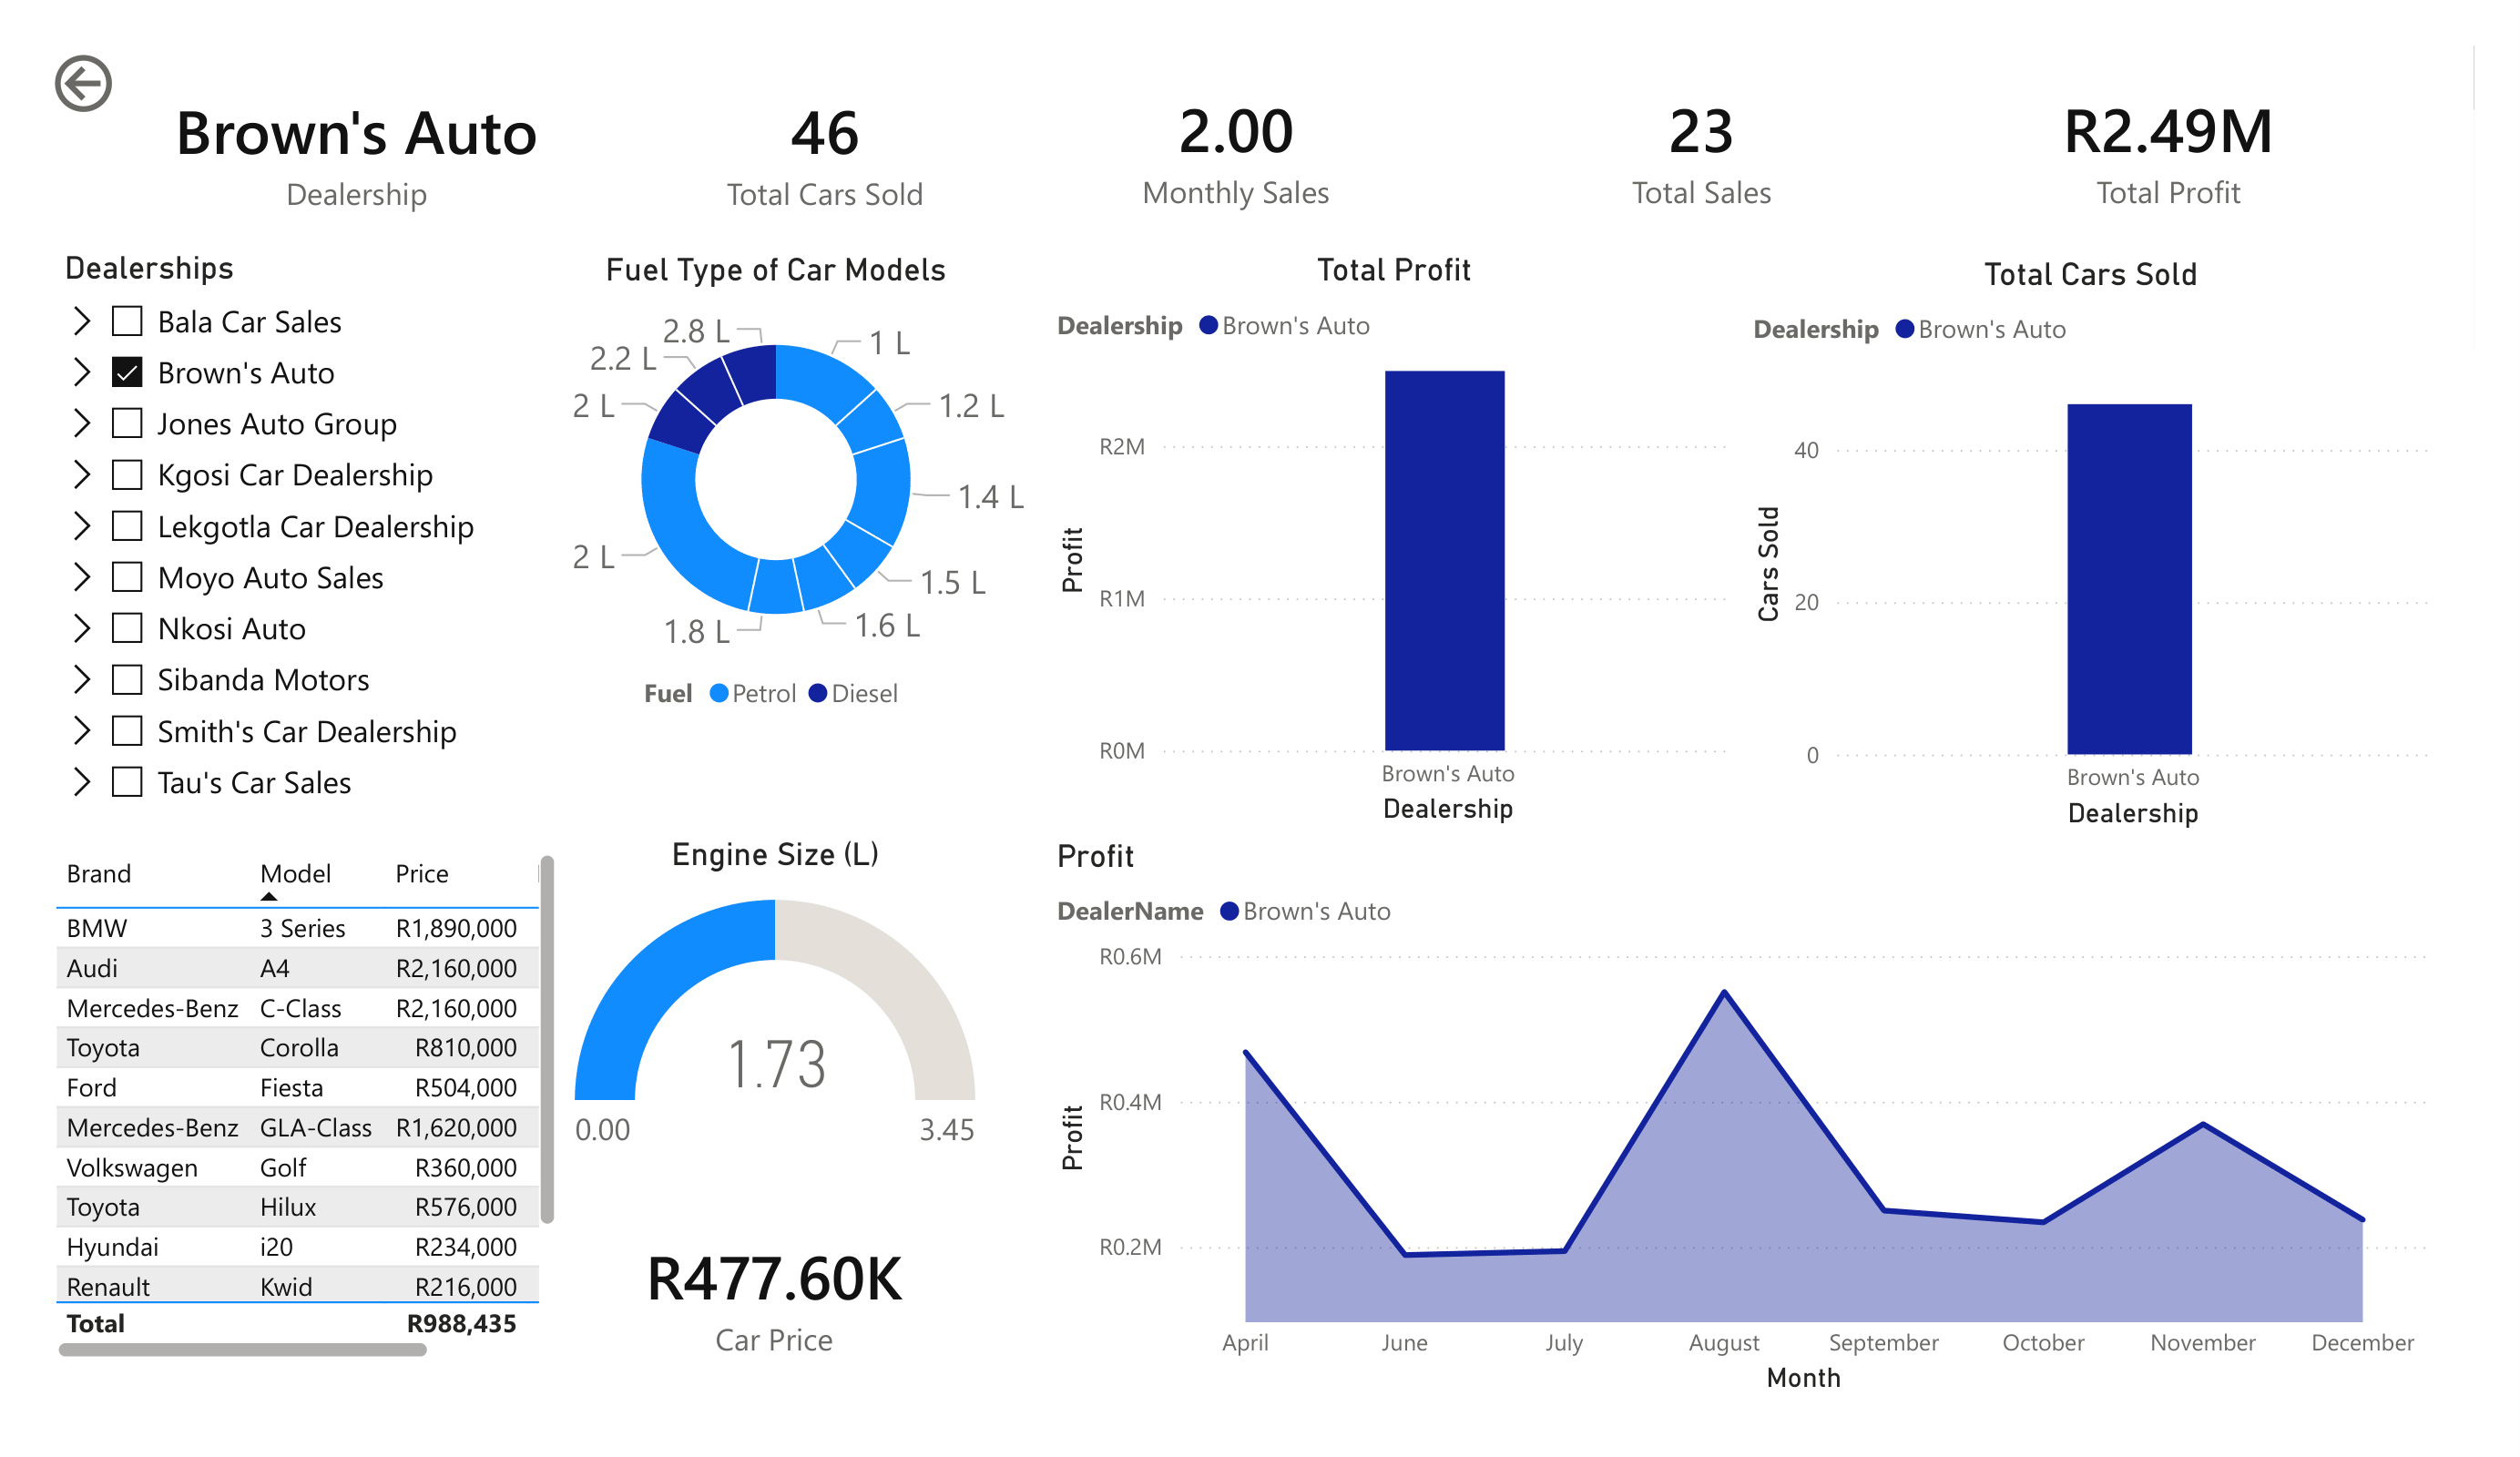

The dashboard page shown, as its layout file describes it:
{"tool":"powerbi","page":{"name":"Page 1","canvas":[1280,720],"ordinal":0},"visuals":[{"type":"cardVisual","fields":{"Data":["CountNonNull(Sales.Quantity)"]},"box":[801.4,0,144.1,109.8],"z":0},{"type":"cardVisual","fields":{"Data":["Sum(Sales.Quantity)"]},"box":[327.7,0,166.3,110.1],"z":1000},{"type":"cardVisual","fields":{"Data":["Sum(Sales.Total Profit (ZAR))"]},"box":[1012.7,0,212.7,109.8],"z":2000},{"type":"tableEx","fields":{"Values":["Models.Brand","Models.Model","Models.Price (ZAR)"]},"box":[9.6,362.3,262.1,355.4],"z":3000},{"type":"cardVisual","fields":{"Data":["Avg(Sales.Quantity)"]},"box":[548.9,0,157.8,109.8],"z":4000},{"type":"cardVisual","fields":{"Data":["Min(Dealers.DealerName)"]},"box":[23.2,0,265.4,110.1],"z":5000},{"type":"donutChart","title":"Fuel Type of Car Models","fields":{"Category":["Models.Fuel"],"Y":["CountNonNull(Models.Fuel)"],"Series":["Models.Engine Sizes (L)"]},"box":[242.1,107.6,286.1,251.9],"z":6000},{"type":"tableEx","fields":{"Values":["Dealers.DealerID","Dealers.DealerName"]},"box":[9.8,99,232.3,249.5],"z":7000},{"type":"gauge","fields":{"Y":["Avg(Models.EngineSize (L))"]},"box":[273.9,414.5,221.3,187.1],"z":8000},{"type":"columnChart","title":"Total Profit","fields":{"Category":["Dealers.DealerName","Sales.Date.Variation.Date Hierarchy.Month","Dealers.City","Models.Brand","Models.Model"],"Y":["Sum(Sales.Total Profit (ZAR))"],"Series":["Dealers.DealerName"]},"box":[528.3,107.6,365.6,306.9],"z":9000},{"type":"columnChart","title":"Total Cars Sold","fields":{"Category":["Dealers.DealerName","Dealers.City","Models.Segment","Models.Model"],"Y":["Sum(Sales.Quantity)"],"Series":["Dealers.DealerName"]},"box":[894.7,109.8,366.4,307.4],"z":10000},{"type":"actionButton","box":[0,0,100,40],"z":11000},{"type":"lineChart","title":"Monthly Profit (ZAR)","fields":{"Category":["Sales.Date.Variation.Date Hierarchy.Month","Dealers.Country","Dealers.City"],"Series":["Dealers.DealerName"],"Y":["Avg(Sales.Total Profit (ZAR))"]},"box":[528.3,417.2,731.4,303.3],"z":12000},{"type":"cardVisual","fields":{"Data":["Avg(Models.Price (ZAR))"]},"box":[271.5,584.5,216.4,135.7],"z":13000}]}

Visuals, with their boxes on the page's 1280x720 design canvas (x1, y1, x2, y2). These are canvas units, not pixel positions in the 2520x1457 screenshot, which may show the page scaled, cropped or inside an application window:
cardVisual - CountNonNull(Sales.Quantity): 801, 0, 946, 110
cardVisual - Sum(Sales.Quantity): 328, 0, 494, 110
cardVisual - Sum(Sales.Total Profit (ZAR)): 1013, 0, 1225, 110
tableEx - Models.Brand x Models.Model: 10, 362, 272, 718
cardVisual - Avg(Sales.Quantity): 549, 0, 707, 110
cardVisual - Min(Dealers.DealerName): 23, 0, 289, 110
"Fuel Type of Car Models" donutChart: 242, 108, 528, 360
tableEx - Dealers.DealerID x Dealers.DealerName: 10, 99, 242, 348
gauge - Avg(Models.EngineSize (L)): 274, 414, 495, 602
"Total Profit" columnChart: 528, 108, 894, 414
"Total Cars Sold" columnChart: 895, 110, 1261, 417
actionButton: 0, 0, 100, 40
"Monthly Profit (ZAR)" lineChart: 528, 417, 1260, 720
cardVisual - Avg(Models.Price (ZAR)): 272, 584, 488, 720
